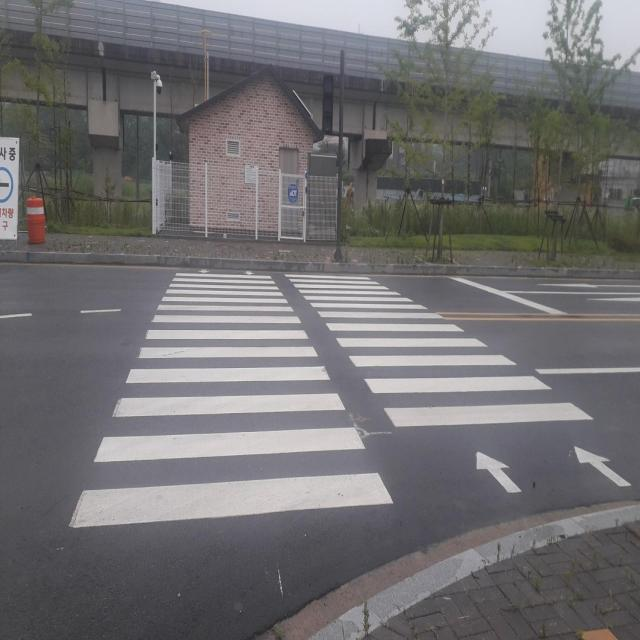횡단보도: (67, 264, 632, 530)
